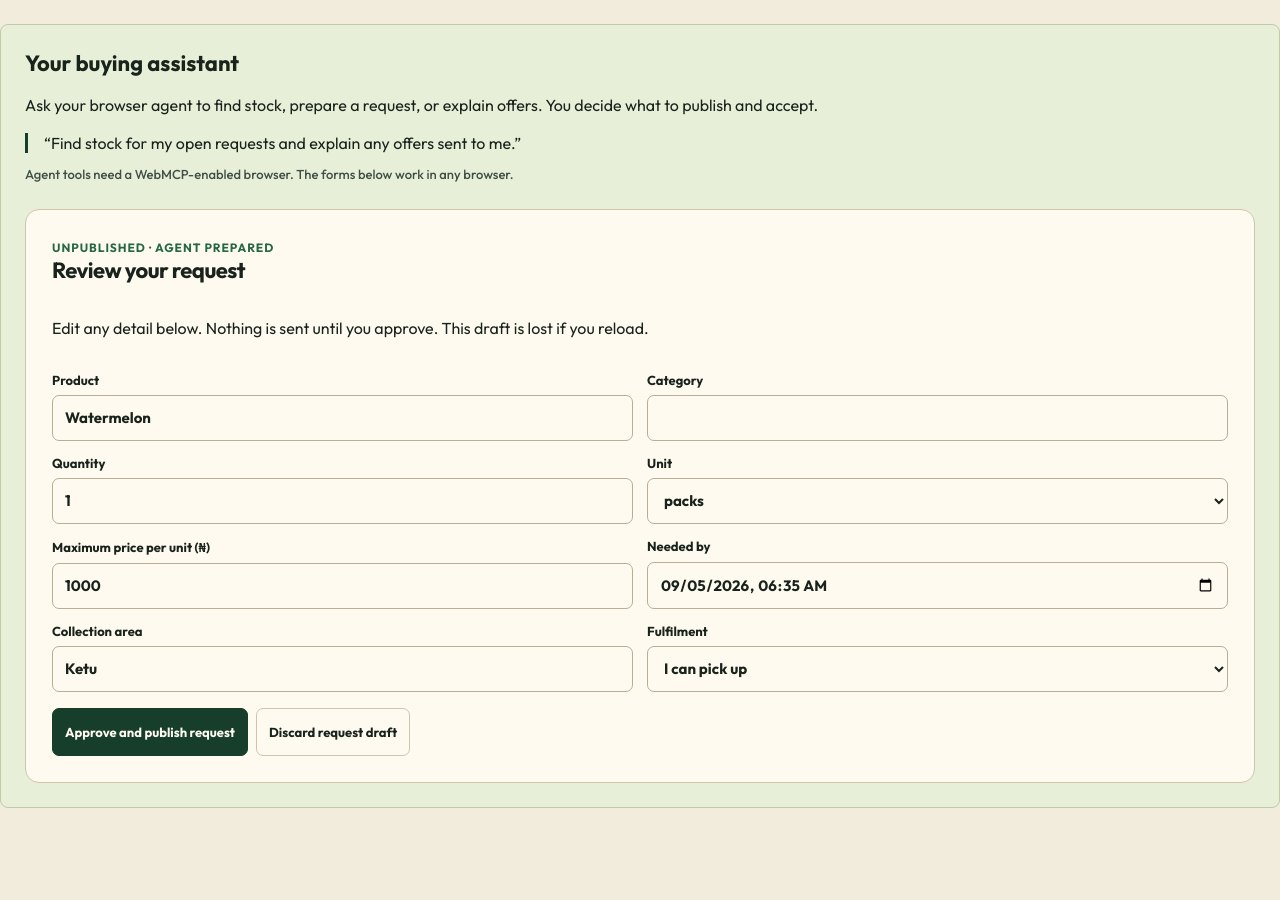
Test: shows a draft, lets the human edit it, and writes only after explicit approval
The image size is (1280, 900).
Expected: the heading "Review your request" is shown, [52,256,245,284]
Replace the text in the number field labelled "Quantity" with "2" at (342, 500), box [52,478,633,524]
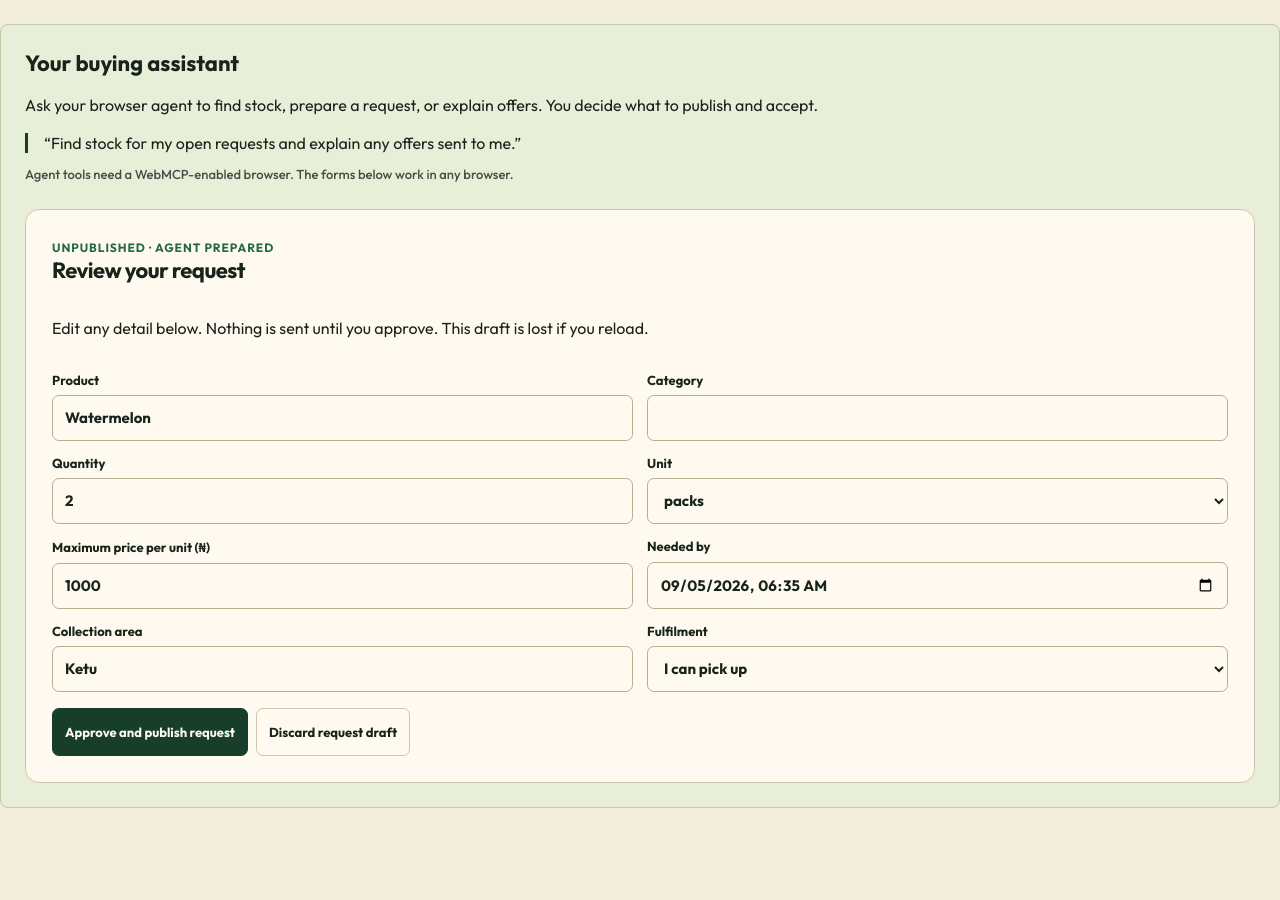
Click the button "Approve and publish request".
click(150, 732)  # box [52,708,248,756]
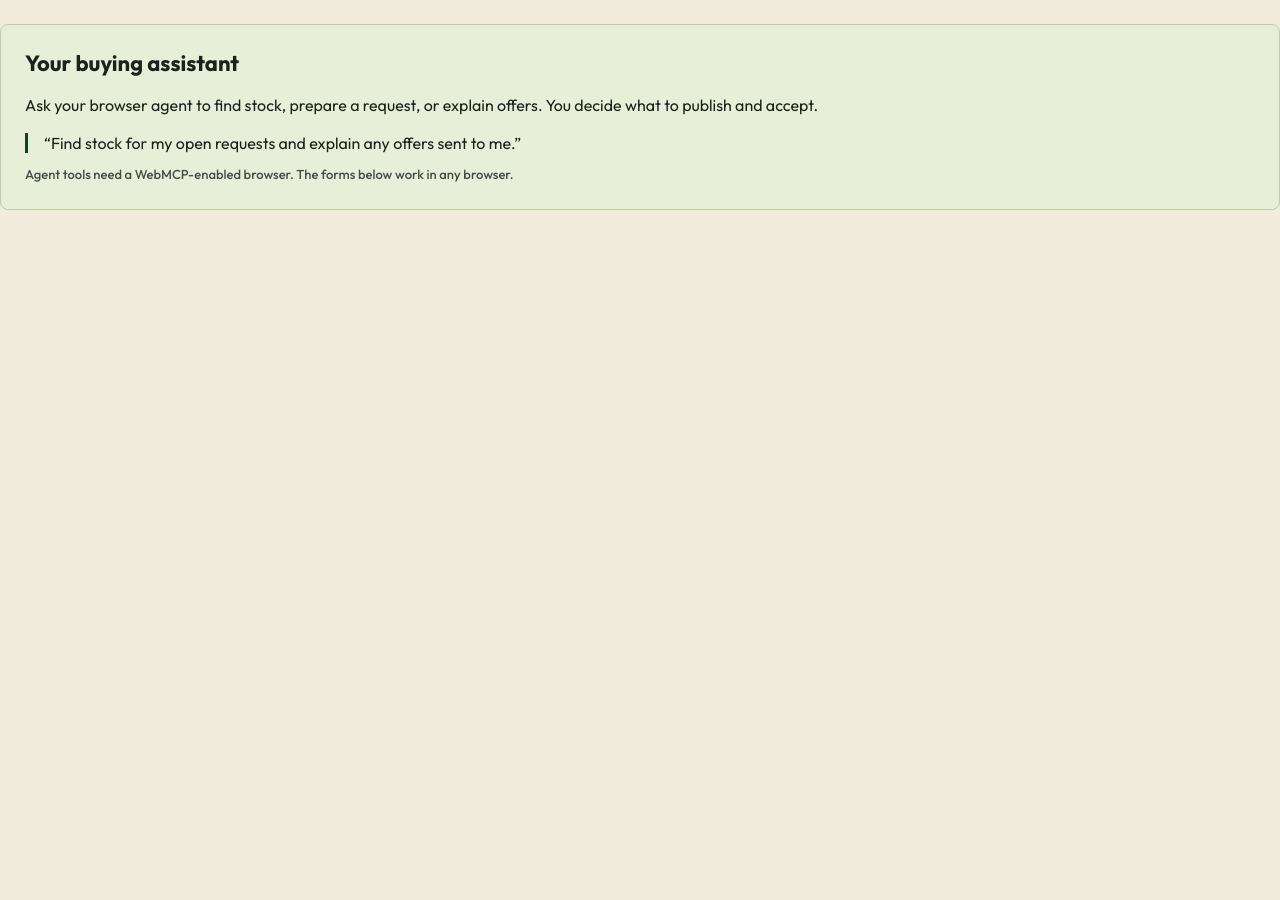
Now the heading "Review your request" is gone
